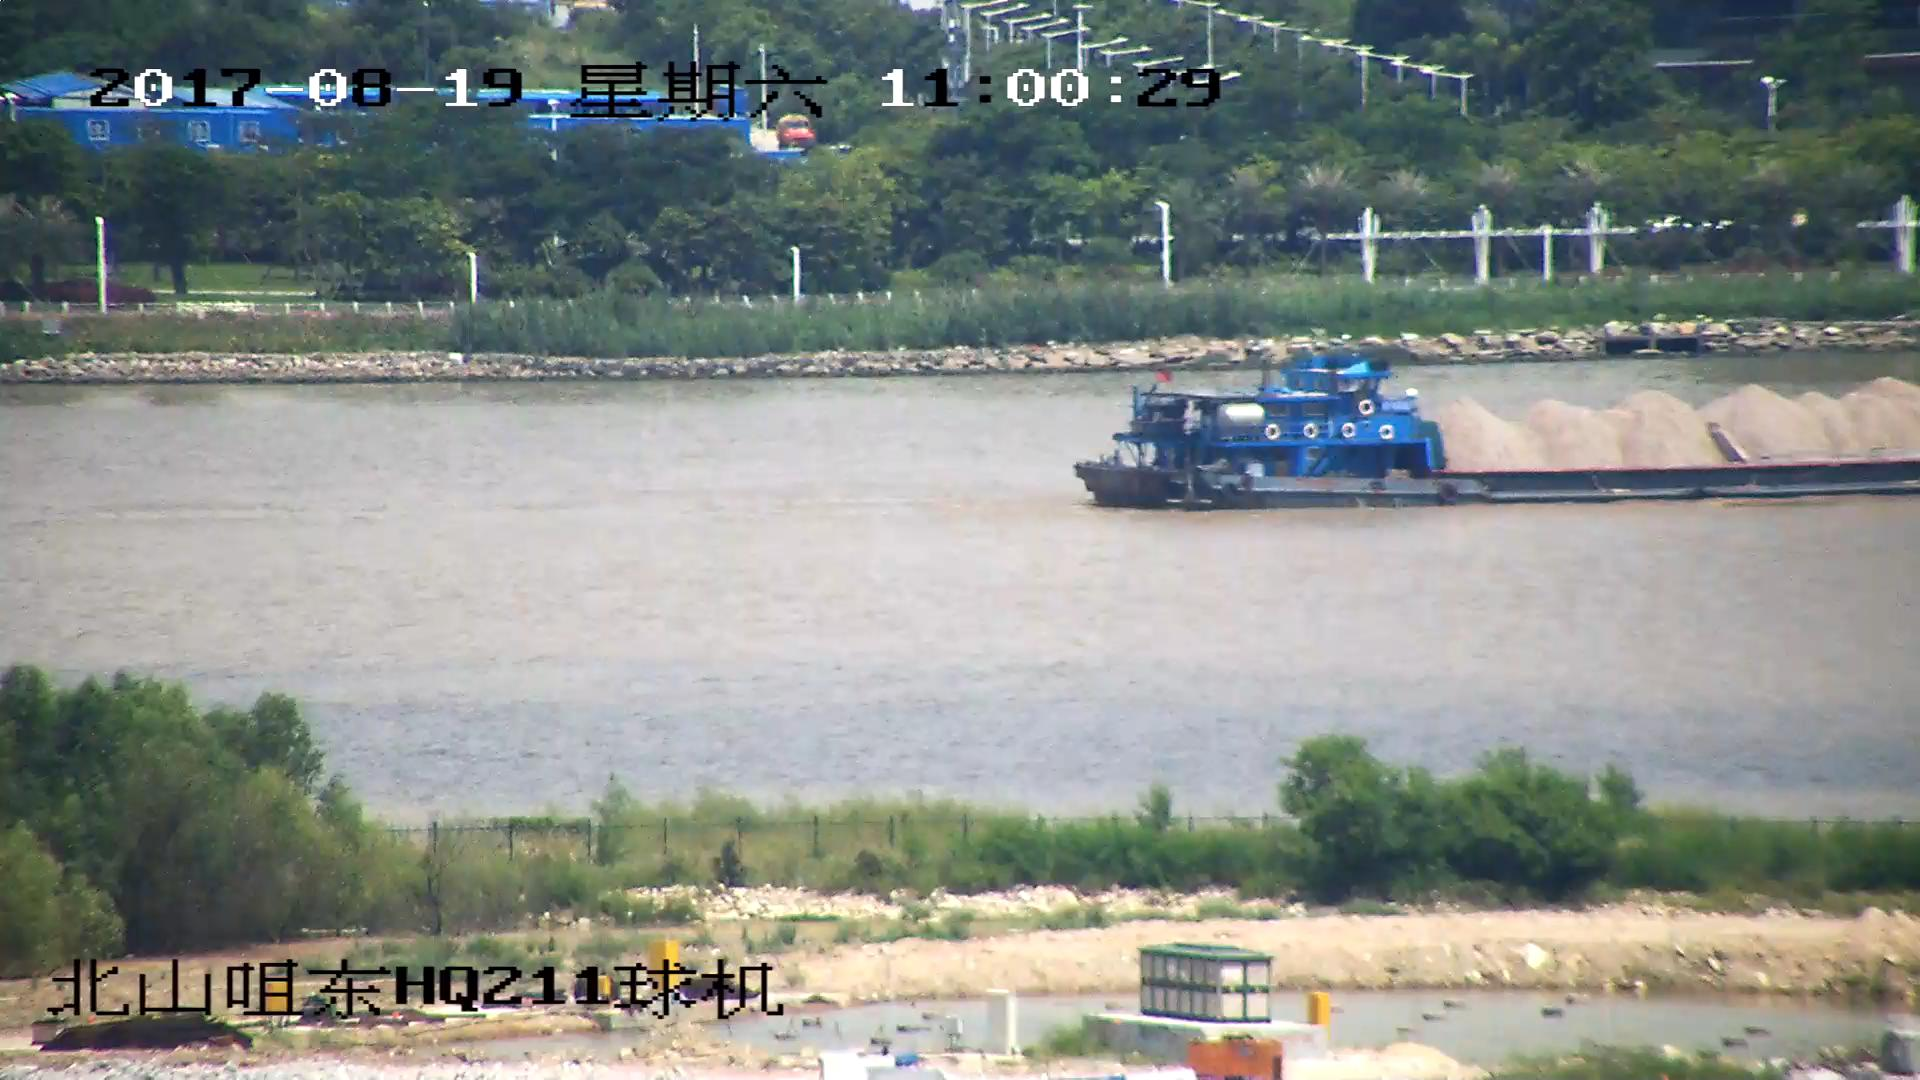ore carrier: (1071, 352, 1920, 511)
